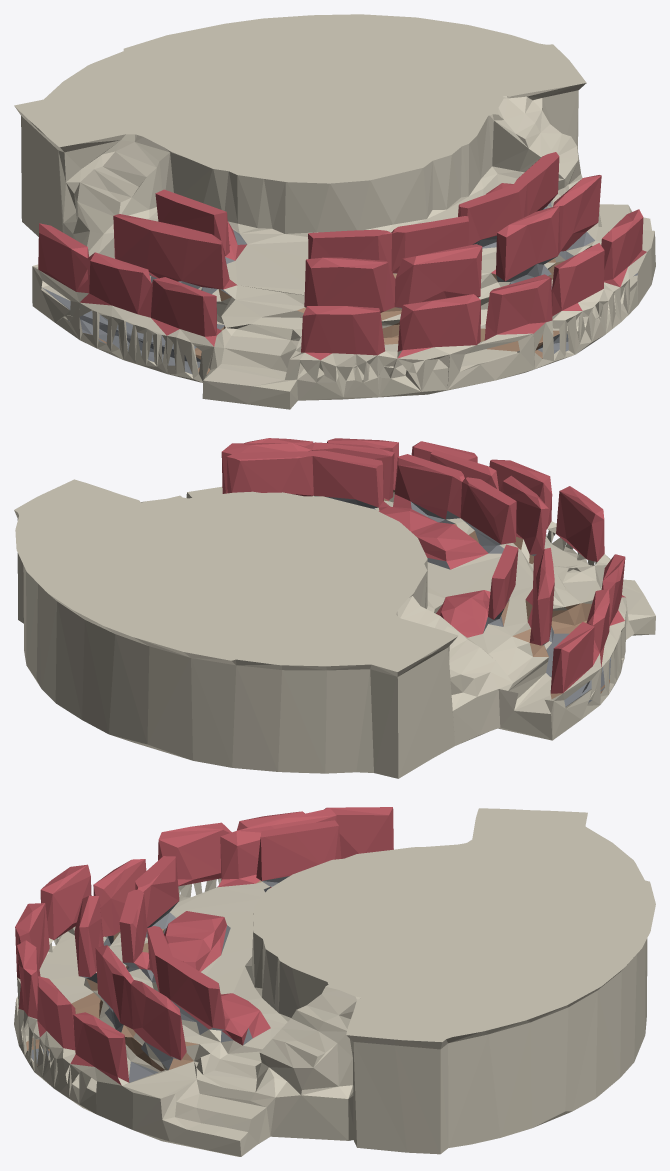
The model's file is etape-1.glb.
3 renders of one model, top to bottom at view 1: azimuth 30°, elevation 25°; view 2: azimuth 150°, elevation 25°; view 3: azimuth 270°, elevation 25°, orthographic. The views are drawn at different scales.
Visible parts, largest first — view 1: geometry_0; view 2: geometry_0; view 3: geometry_0.
Part boxes in pixels (x1,y1,x2,y2): geometry_0: (14,14,655,409); geometry_0: (14,438,655,778); geometry_0: (14,807,655,1156).
Bounding box in the file's own units: 0.9776 × 0.2045 × 0.994.
